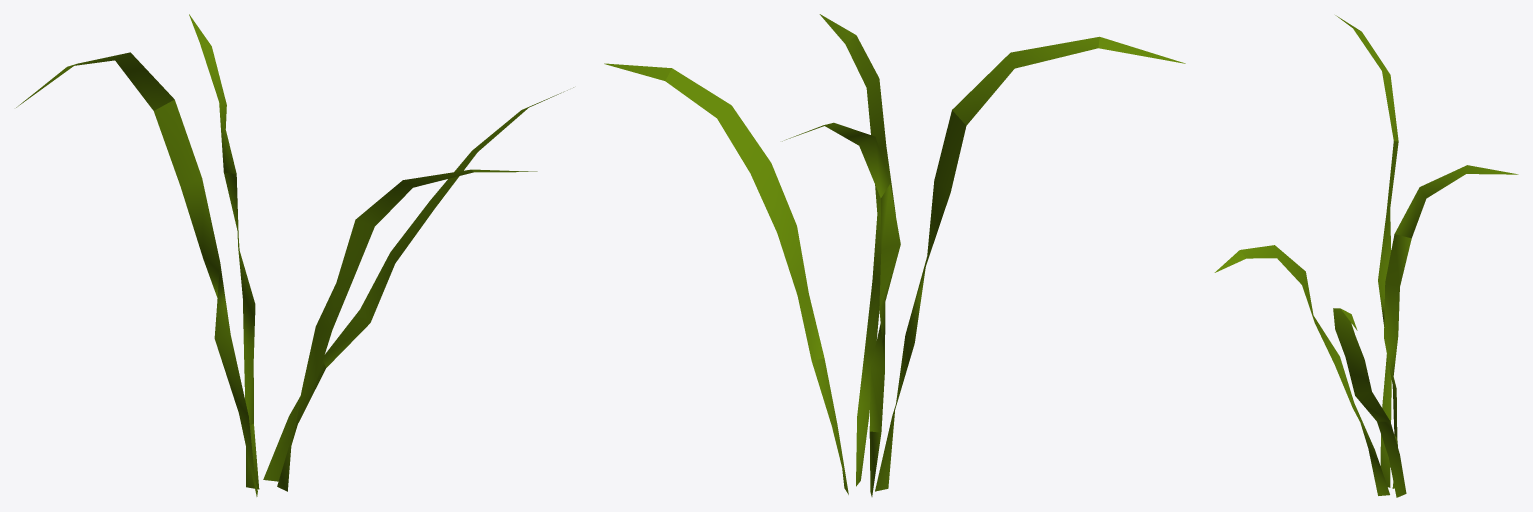
The model's file is GrassLong02.fbx.
3 views of the same model, side by side, from view 1: azimuth 30°, elevation 25°; view 2: azimuth 150°, elevation 25°; view 3: azimuth 270°, elevation 25° (orthographic). The views are drawn at different scales.
Visible parts, largest first — view 1: GrassLong02_LOD0; view 2: GrassLong02_LOD0; view 3: GrassLong02_LOD0.
Part boxes in pixels (x1,y1,x2,y2): GrassLong02_LOD0: [16, 14, 573, 496]; GrassLong02_LOD0: [604, 14, 1185, 496]; GrassLong02_LOD0: [1214, 15, 1518, 497].
Size of what is drawn, in the model's own units: 90.57 by 74.33 by 53.61.
